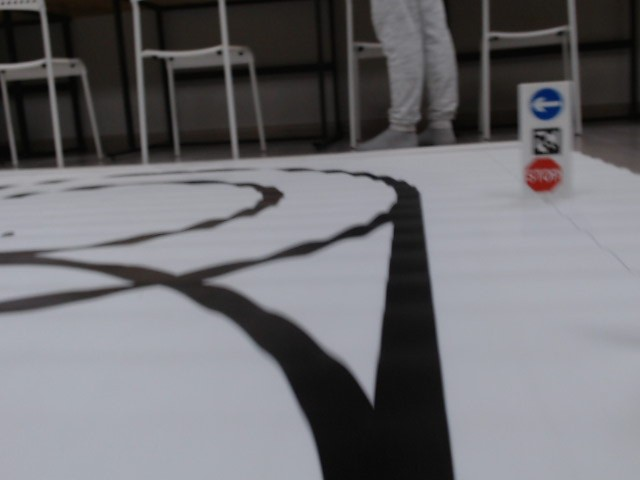Stop: (524, 156, 560, 191)
